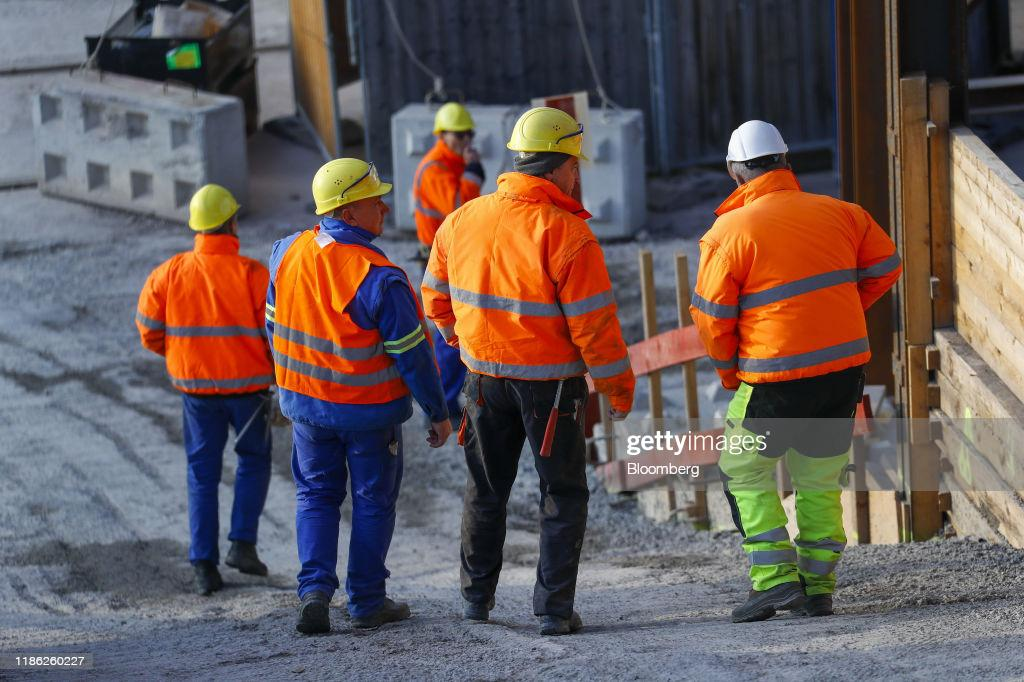hardhat: (503, 105, 597, 164), (306, 162, 399, 217), (723, 119, 794, 164), (176, 187, 245, 232), (430, 105, 477, 138)
worker: (421, 107, 637, 638), (687, 114, 906, 621), (263, 158, 452, 633), (137, 184, 274, 592)
